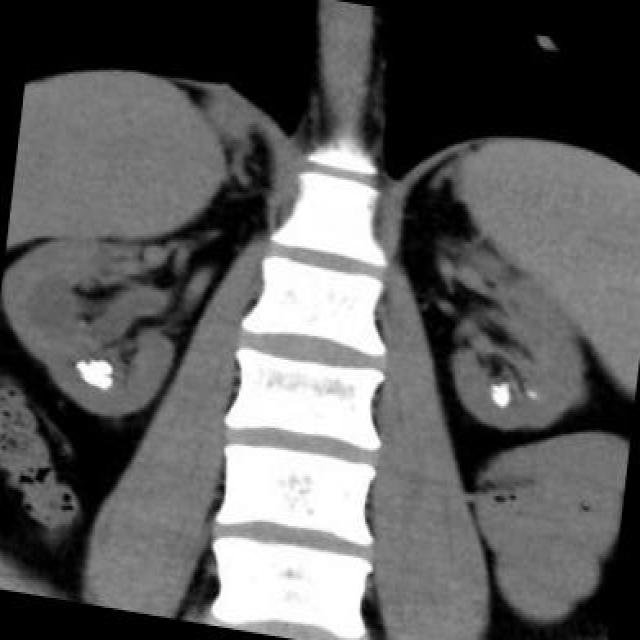Tas_Var: (68, 351, 114, 397), (484, 378, 512, 410), (524, 381, 540, 405)
